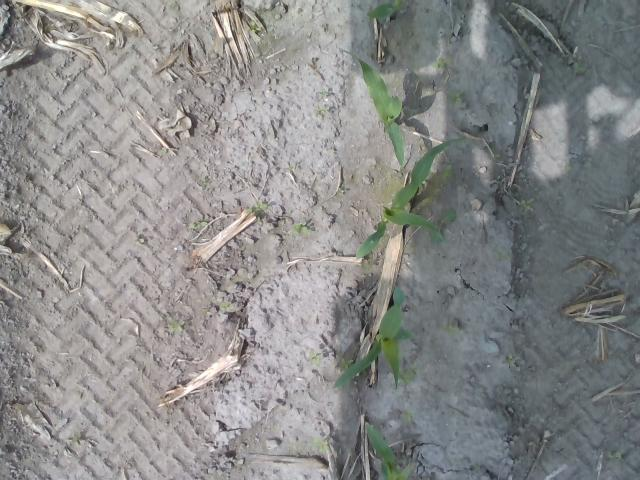Maize: (350, 132, 466, 262), (331, 287, 413, 396), (338, 46, 408, 169), (366, 424, 409, 480), (366, 0, 406, 20)
Weeds: (431, 209, 456, 242), (438, 319, 463, 338), (401, 366, 422, 384), (166, 318, 185, 334), (249, 200, 267, 214), (440, 163, 455, 178), (448, 90, 464, 104), (518, 197, 534, 211), (188, 218, 208, 228), (434, 58, 449, 71), (292, 222, 308, 234), (504, 354, 517, 368), (338, 357, 353, 369), (249, 21, 262, 34), (400, 410, 415, 421), (310, 352, 320, 366), (316, 440, 327, 452), (222, 303, 234, 311), (319, 106, 329, 114)
